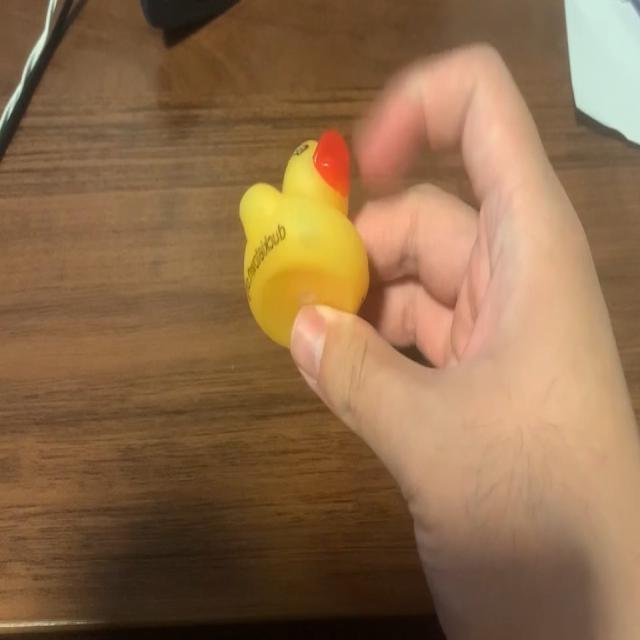rubber-duck: (239, 129, 367, 345)
